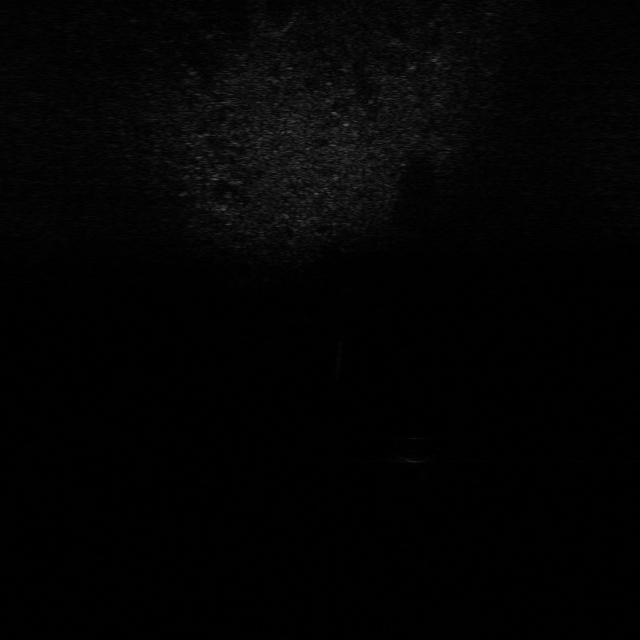ball: (398, 437, 438, 466)
